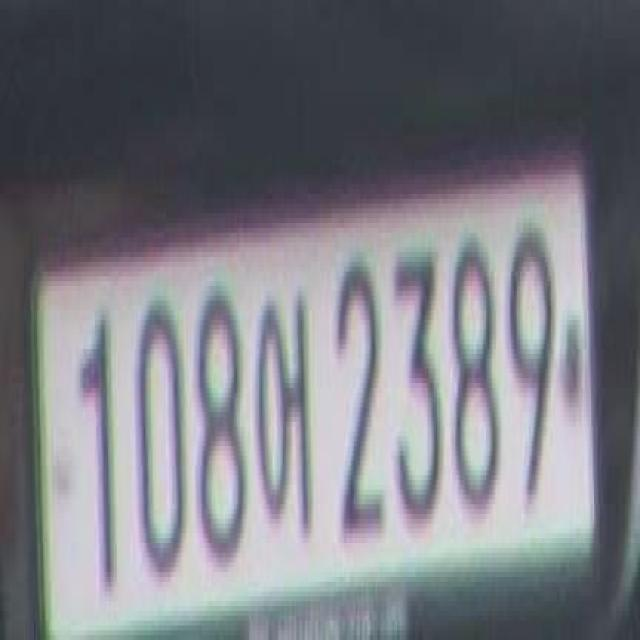illegal_plate: (30, 178, 609, 620)
